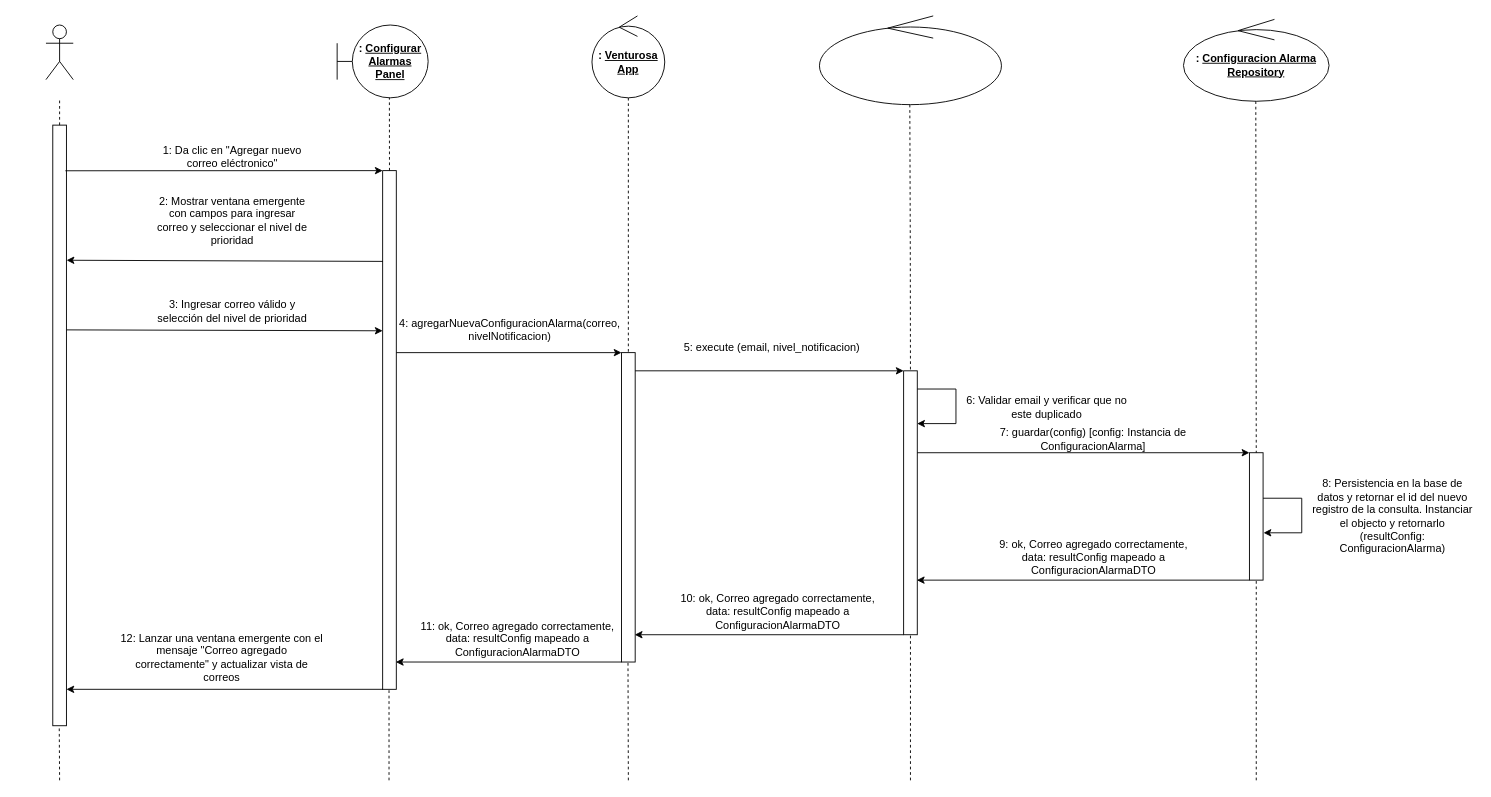
This 1491x797 diagram has some shape labels left out. Each missing label, with the centre of its shape:
: Agregar Nueva Configuracion Alarma Use Case: (x=910, y=60)
Técnico ambiental: (x=59, y=52)
